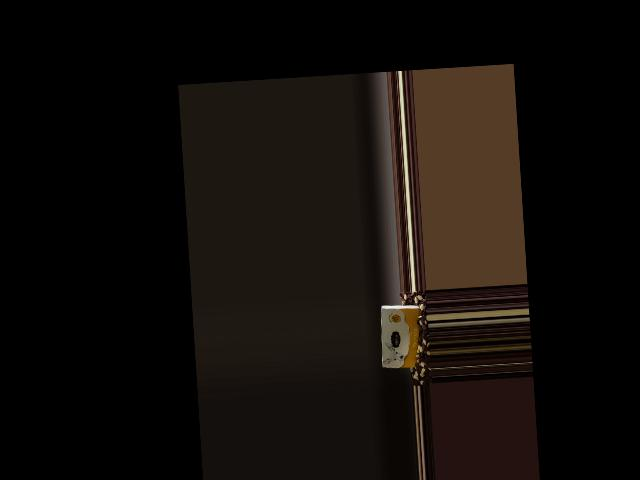chocolate: (376, 300, 425, 373)
